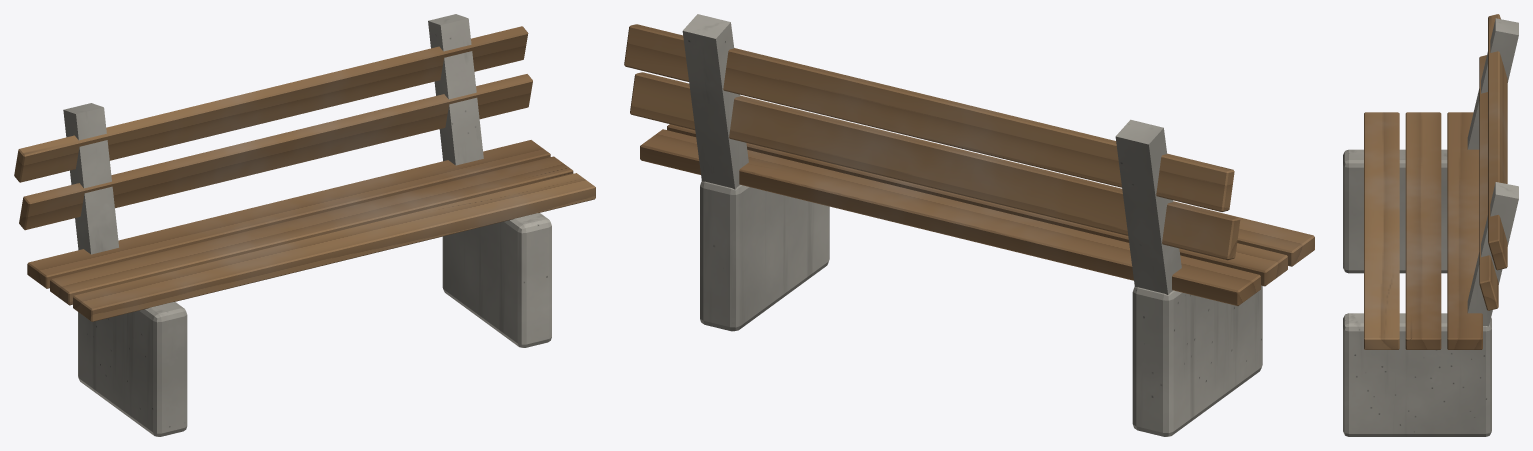
File: ParkBench.gltf
3 views of the same model, side by side, from view 1: azimuth 30°, elevation 25°; view 2: azimuth 150°, elevation 25°; view 3: azimuth 270°, elevation 25° (orthographic). The views are drawn at different scales.
Visible parts, largest first — view 1: ParkBench; view 2: ParkBench; view 3: ParkBench.
Boxes of the visible parts, x1,y1,x2,y2 form: ParkBench: (14, 14, 595, 436); ParkBench: (624, 14, 1314, 436); ParkBench: (1343, 14, 1518, 436).
Bounding box in the file's own units: 1.8 × 0.9029 × 0.5911.
2 materials, 2 textured.
